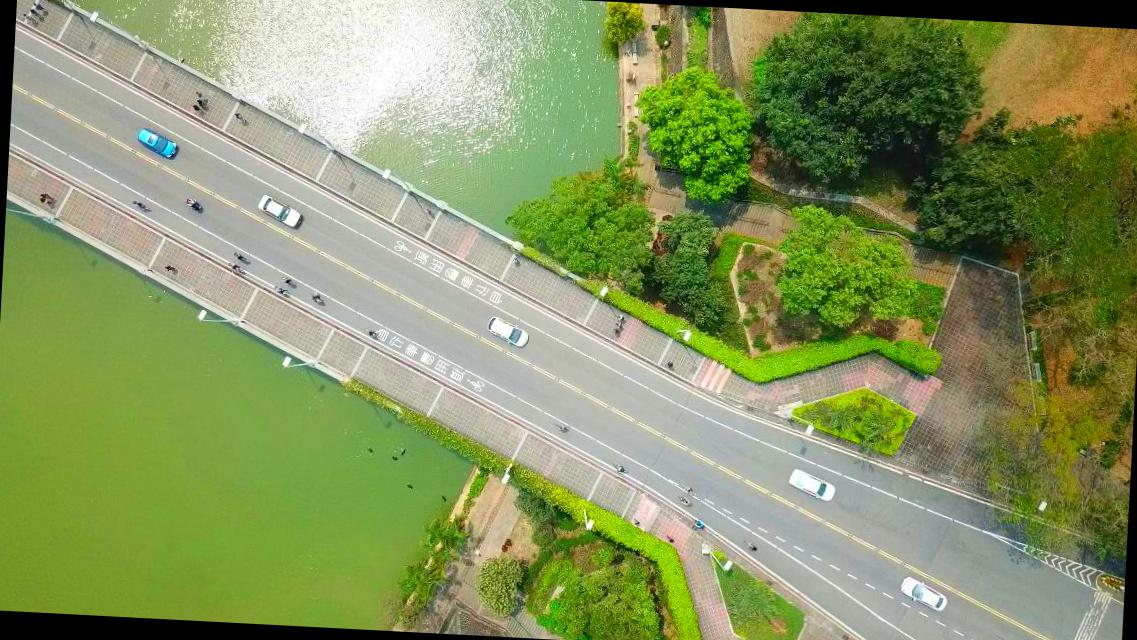vehicle: (785, 468, 836, 504), (898, 576, 947, 613), (254, 194, 304, 228), (484, 316, 528, 349), (134, 126, 178, 159)
